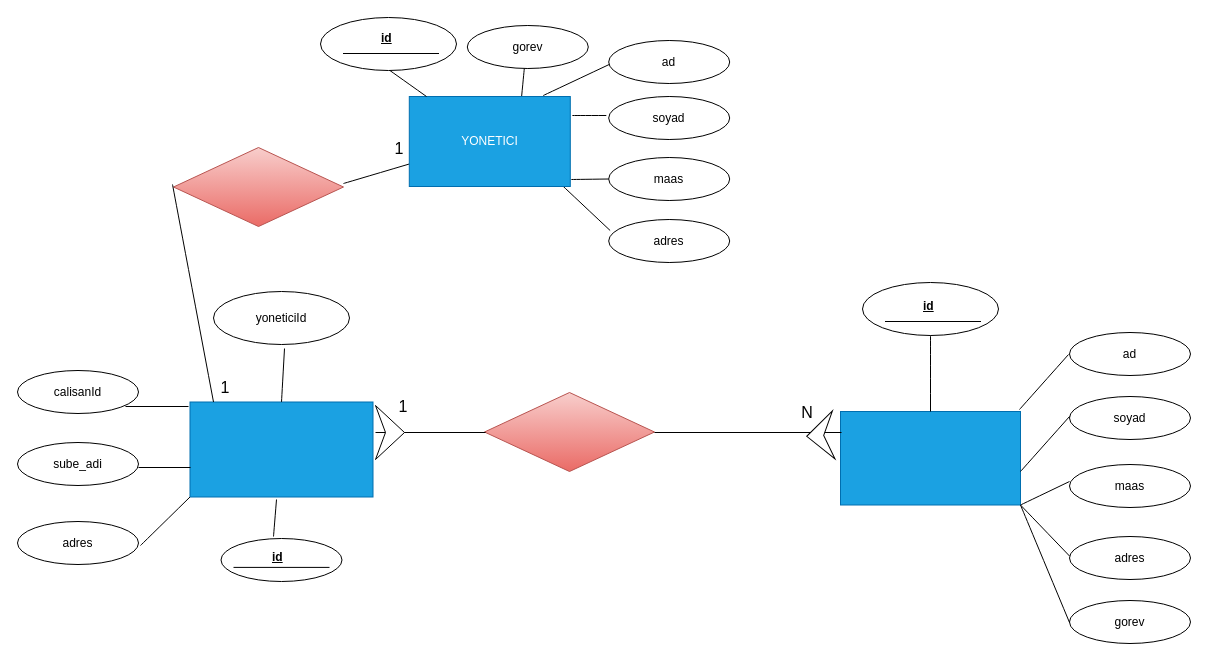
Some shapes in this 1208 by 661 pixel diagram are drawn without their labels. The shapes that lost their labels are listed below. From the top down, each one's box as (x1, y1, x2, y2) in pixels, then its label:
(172, 146, 344, 226): YONETIR
(189, 401, 373, 497): SUBE
(484, 392, 654, 472): CALISIR
(840, 410, 1020, 505): CALISAN
